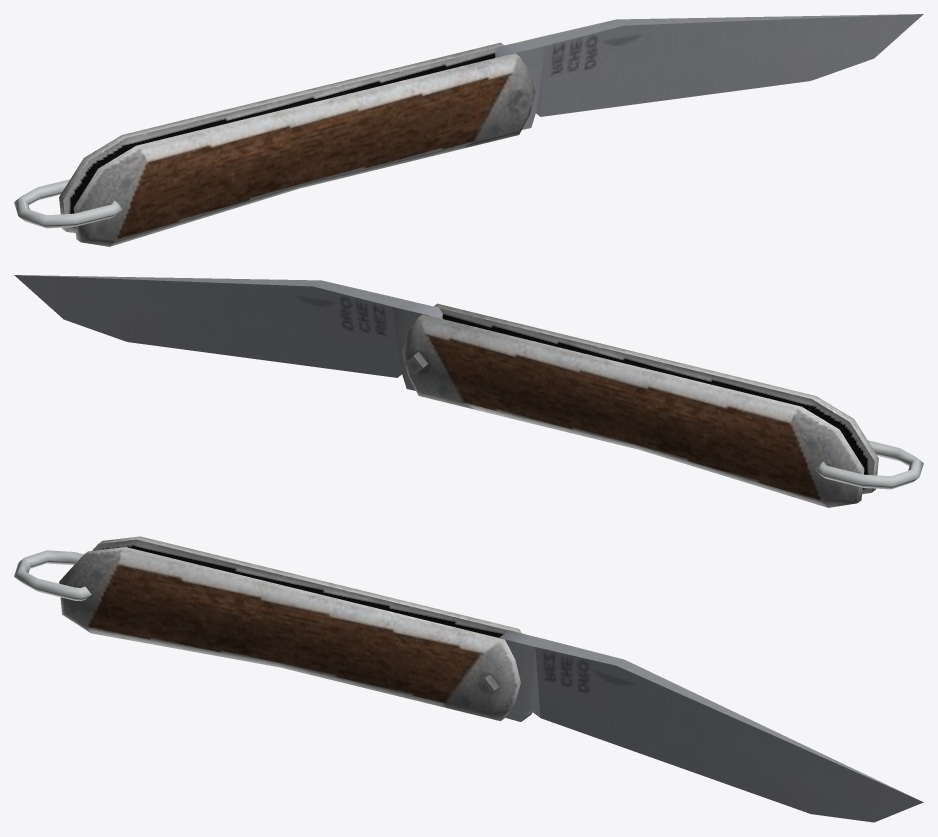
The model's file is knife.glb.
3 views of the same model, one above another, from view 1: azimuth 30°, elevation 25°; view 2: azimuth 150°, elevation 25°; view 3: azimuth 330°, elevation 25° (orthographic).
Parts seen in each view (by area): view 1: Osnova, Lezvie, Pryazhka; view 2: Osnova, Lezvie, Pryazhka; view 3: Osnova, Lezvie, Pryazhka.
Part boxes in pixels (x1=…): Osnova: x1=59, y1=42, x2=535, y2=246; Lezvie: x1=495, y1=14, x2=923, y2=129; Pryazhka: x1=14, y1=179, x2=121, y2=228; Osnova: x1=402, y1=303, x2=878, y2=507; Lezvie: x1=14, y1=275, x2=442, y2=390; Pryazhka: x1=816, y1=440, x2=923, y2=489; Osnova: x1=59, y1=536, x2=521, y2=721; Lezvie: x1=499, y1=630, x2=923, y2=822; Pryazhka: x1=14, y1=550, x2=91, y2=601.
Bounding box in the file's own units: 0.2527 × 0.0281 × 0.0211.
1 material, 1 textured.
